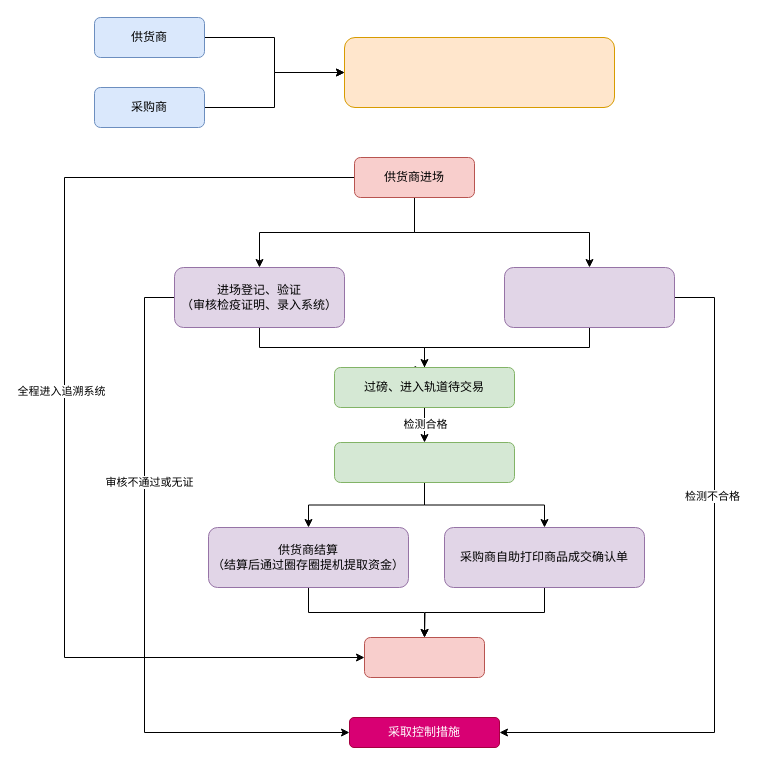
This 757x765 diagram has some shape labels left out. The centre of each missing label's shape, as x and y in pixels:
"出场" goes at (x=424, y=657).
"办理IC卡 提交营业执照/身份证;IC卡中录入姓名、身份证号、联系方式、销售地址等信息" goes at (x=479, y=72).
"通过手持机进行交易" goes at (x=424, y=462).
"采样检测 （瘦肉精、水分含量）" goes at (x=589, y=297).
